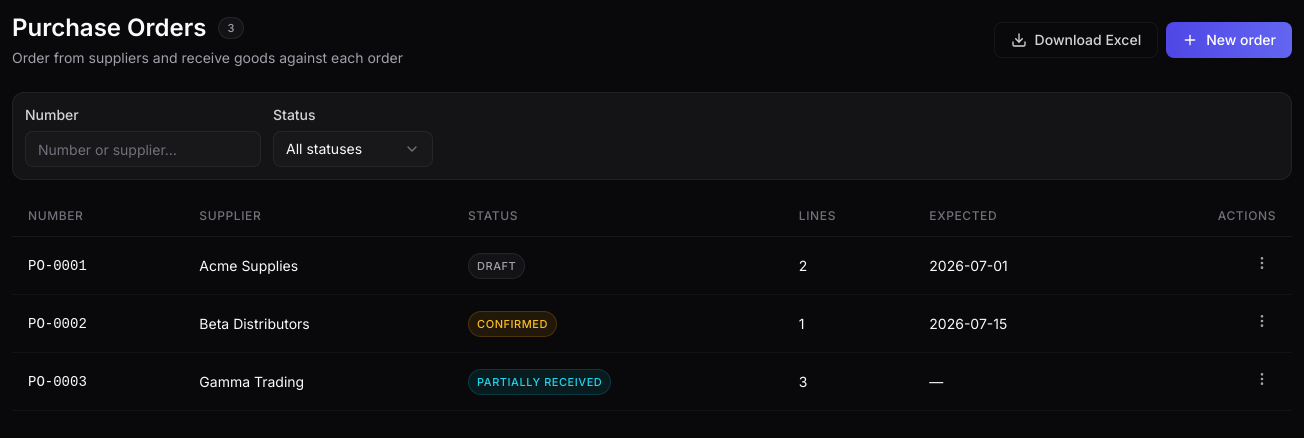
Scenario: PurchaseOrderList row actions by status › CONFIRMED row exposes Receive (and Cancel order) but no Confirm
The image size is (1304, 438).
Step 1. Click the button with test id "po-actions-po-002" → point(1262, 321), box [1248,307,1276,335]
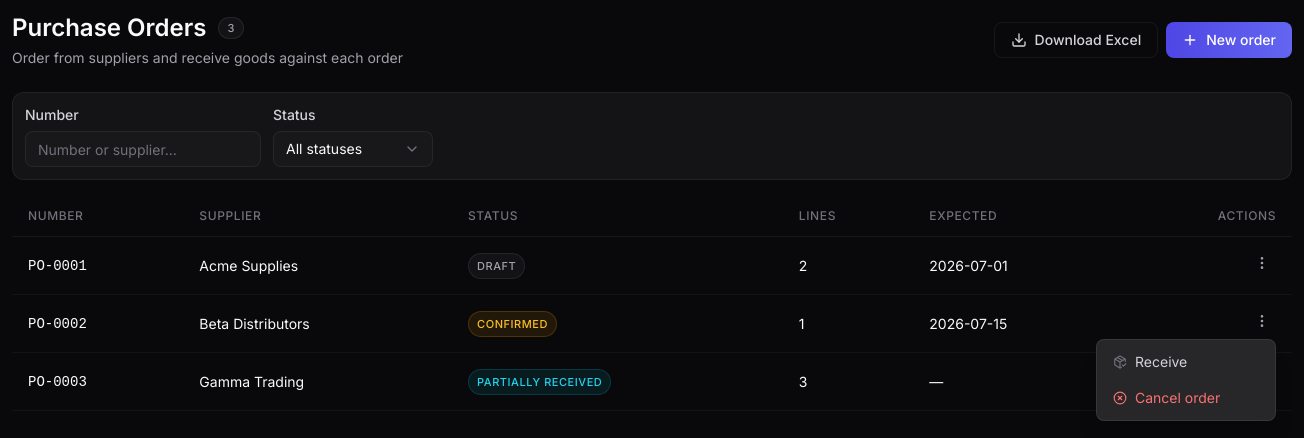
Now the text "Receive" is shown, box [1135,352,1187,372]
Now the text "Cancel order" is shown, box [1135,388,1220,408]
